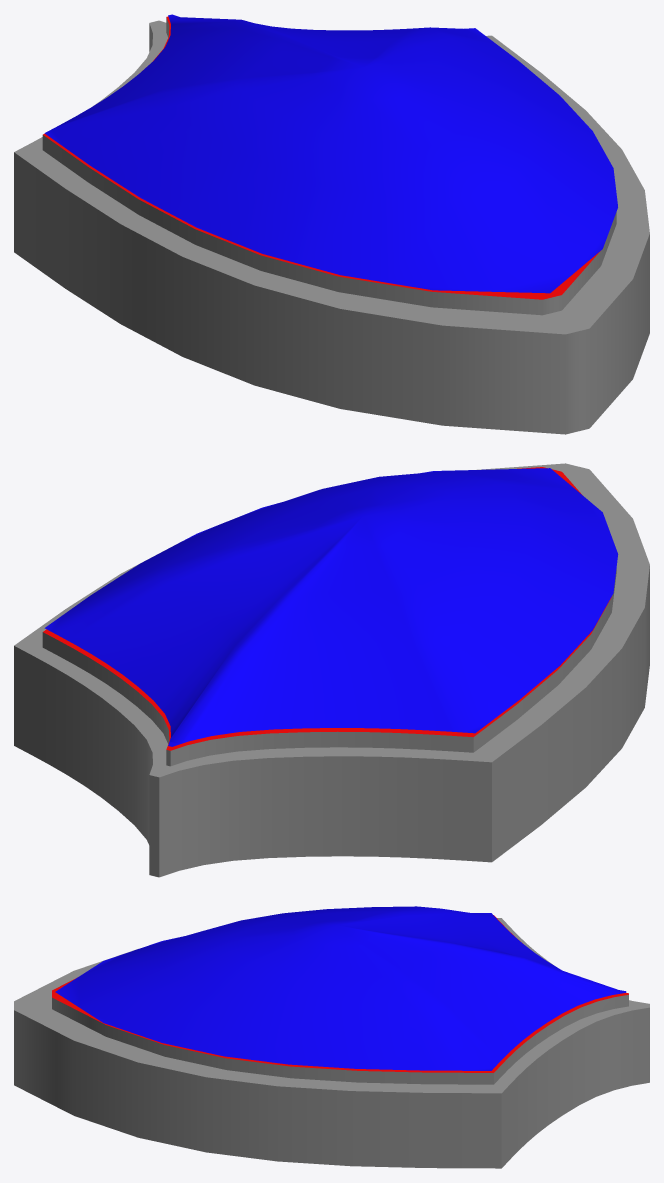
The model's file is Shield.FBX.
The picture shows the model from 3 angles, top to bottom: view 1: azimuth 30°, elevation 25°; view 2: azimuth 150°, elevation 25°; view 3: azimuth 270°, elevation 25°; orthographic projection. The views are drawn at different scales.
Parts seen in each view (by area): view 1: Line001; view 2: Line001; view 3: Line001.
Part boxes in pixels (bbox=[...]): Line001: bbox=[14, 14, 649, 434]; Line001: bbox=[14, 463, 649, 877]; Line001: bbox=[14, 906, 649, 1168].
Bounding box in the file's own units: 80.58 × 33.39 × 124.
